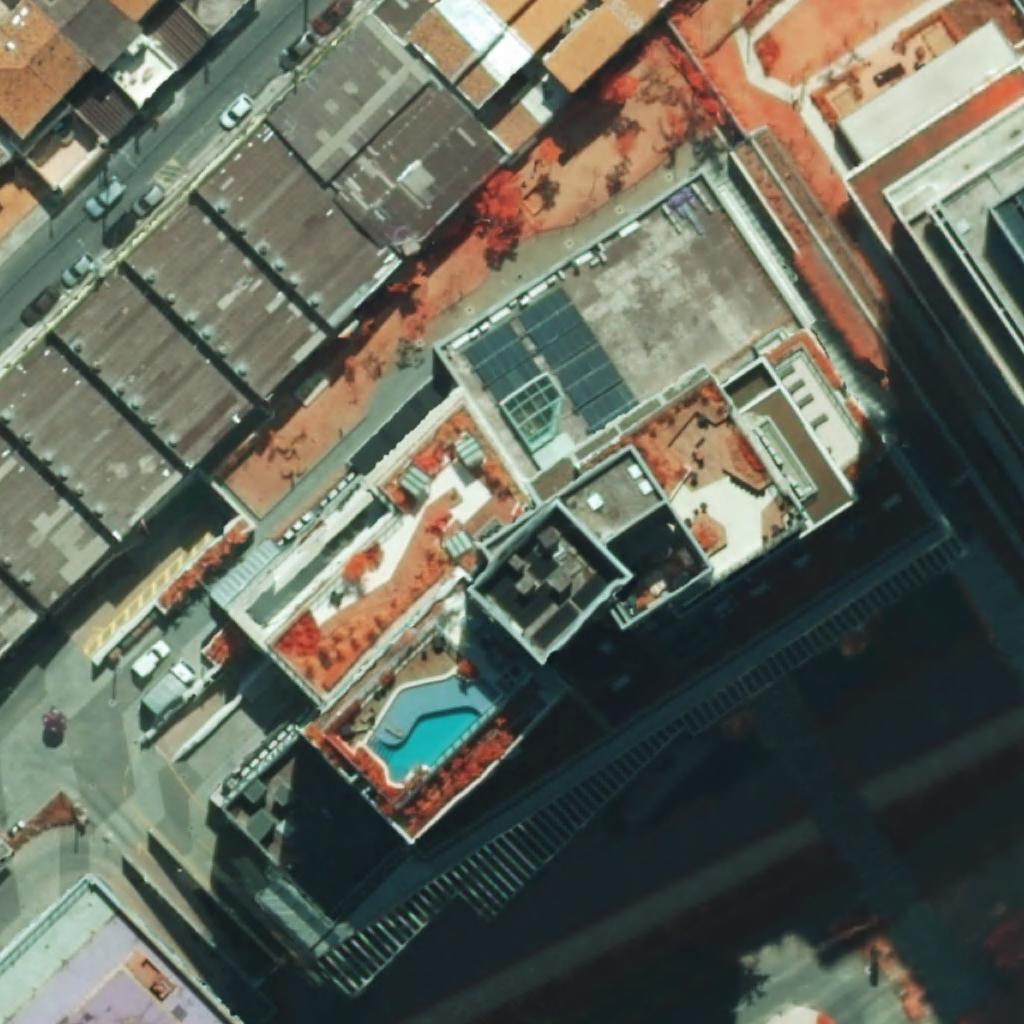pool: (366, 674, 505, 784)
